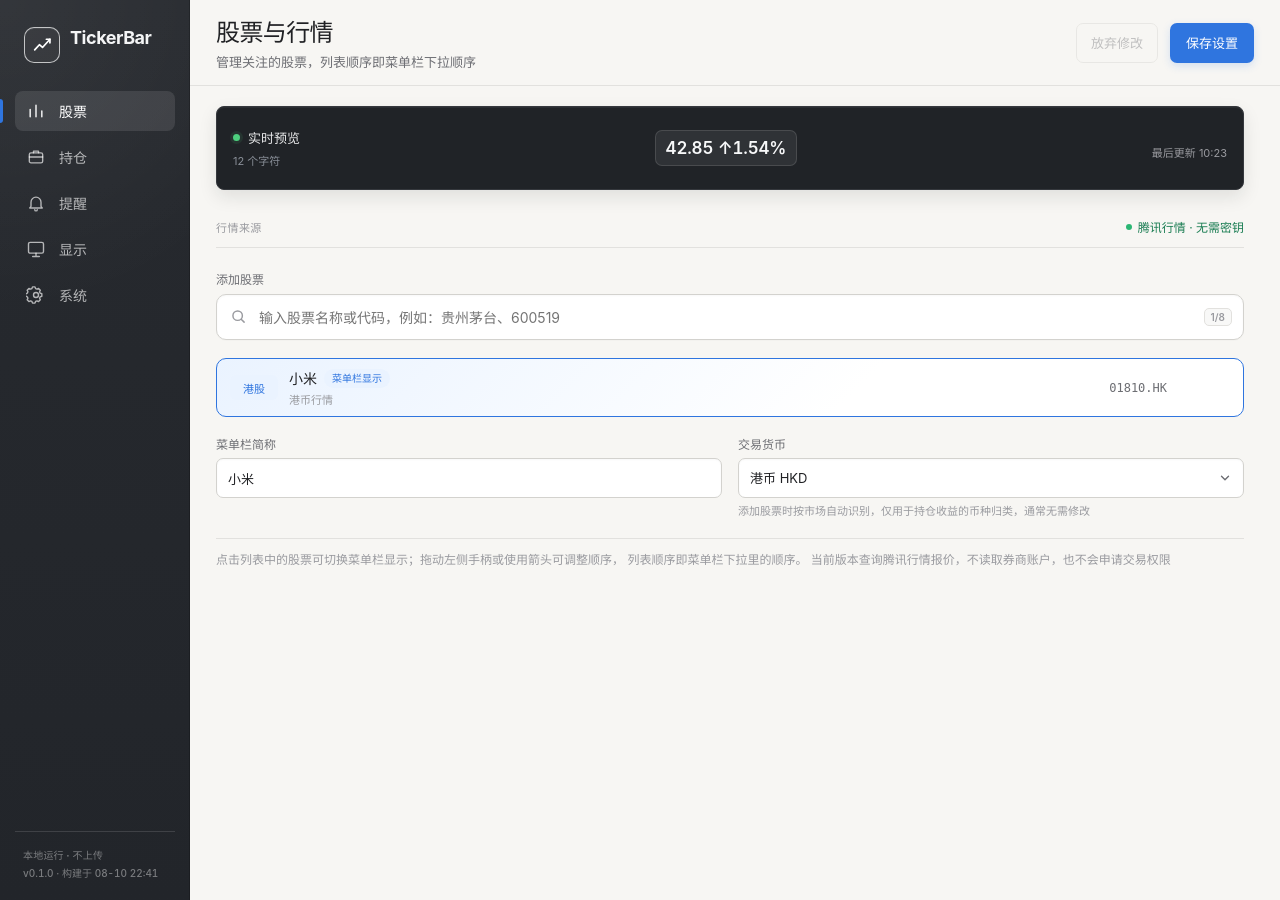
Test: TickerBar settings window › Toast 不在提醒页也会弹，因为触发时用户可能停在任何一页
Click the button with test id "nav-display": (95, 249) [15, 229, 175, 269]
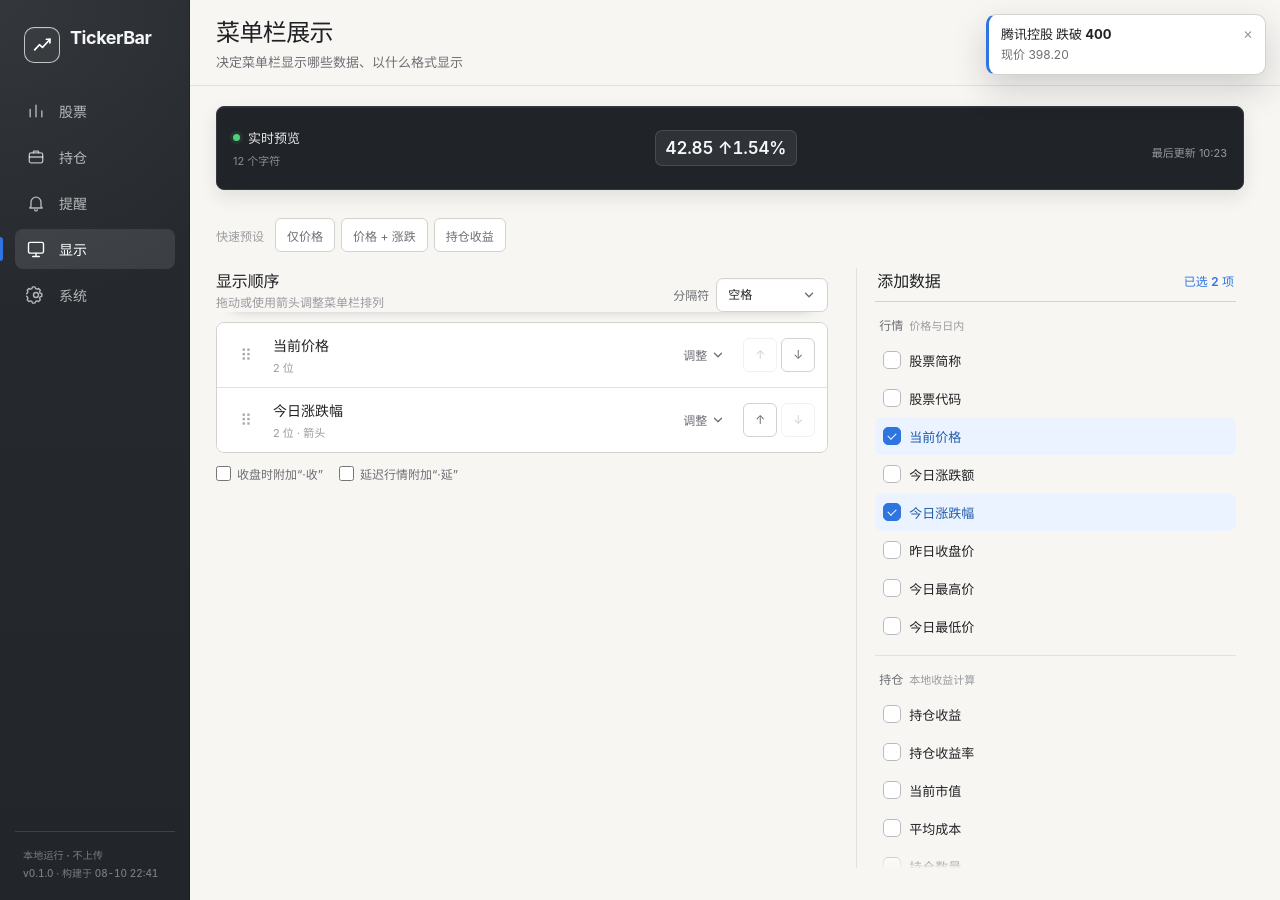
expect the element with test id "alert-toasts" shows "腾讯控股 跌破 400": met, box [986, 14, 1266, 75]
